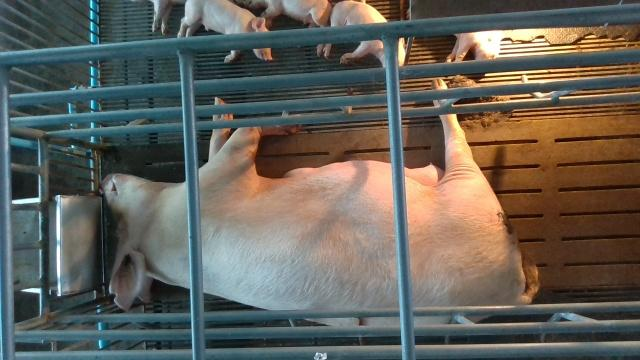piglet: (317, 0, 405, 69), (178, 0, 273, 63), (238, 0, 331, 56), (444, 30, 507, 64)
sow-sleep: (94, 78, 537, 327)
